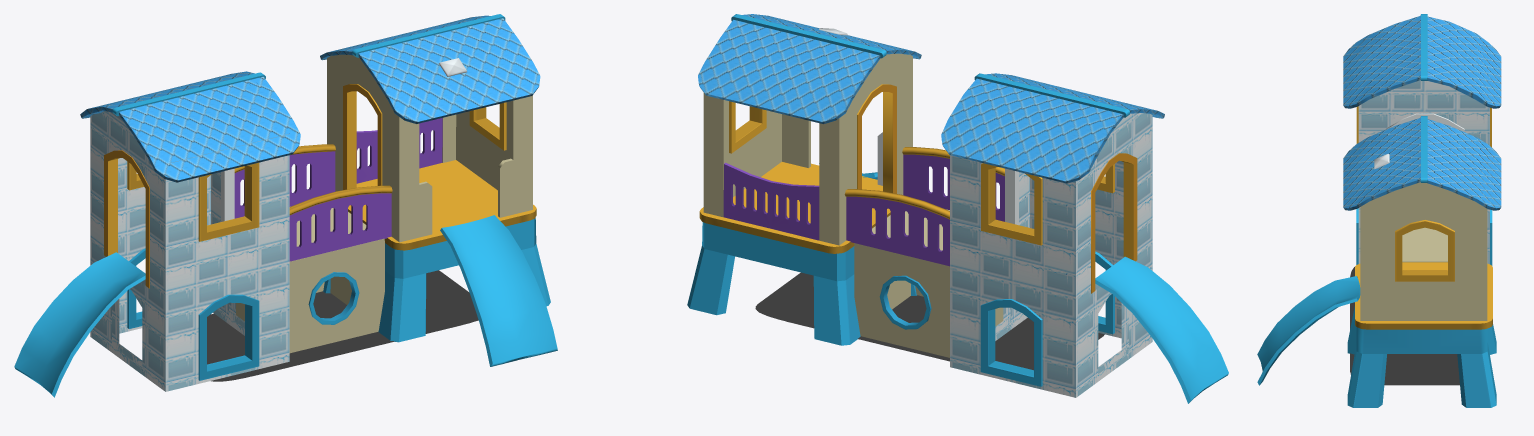
The model's file is sand_slide.DAE.
3 renders of one model, left to right at view 1: azimuth 30°, elevation 25°; view 2: azimuth 150°, elevation 25°; view 3: azimuth 270°, elevation 25°, orthographic. The views are drawn at different scales.
Visible parts, largest first — view 1: sand_slide, sd_sand_slide; view 2: sand_slide, sd_sand_slide; view 3: sand_slide, sd_sand_slide.
Part boxes in pixels (x1,y1,x2,y2): sand_slide: (14, 14, 557, 397); sd_sand_slide: (207, 270, 478, 381); sand_slide: (687, 14, 1228, 403); sd_sand_slide: (755, 272, 1104, 370); sand_slide: (1257, 14, 1501, 407); sd_sand_slide: (1350, 266, 1459, 385).
Size of the model in its own units: 3881 by 1978 by 1885.
2 materials, 2 textured.
